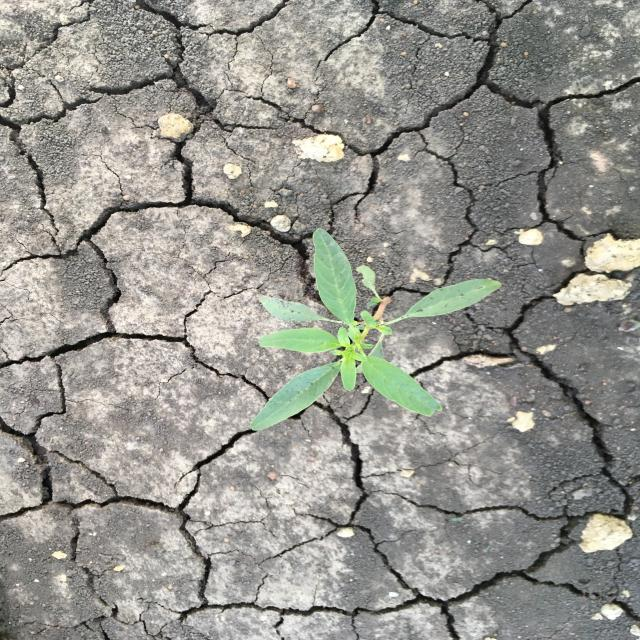Waterhemp: (248, 228, 504, 432)
